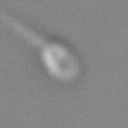normal: (1, 6, 45, 45)
